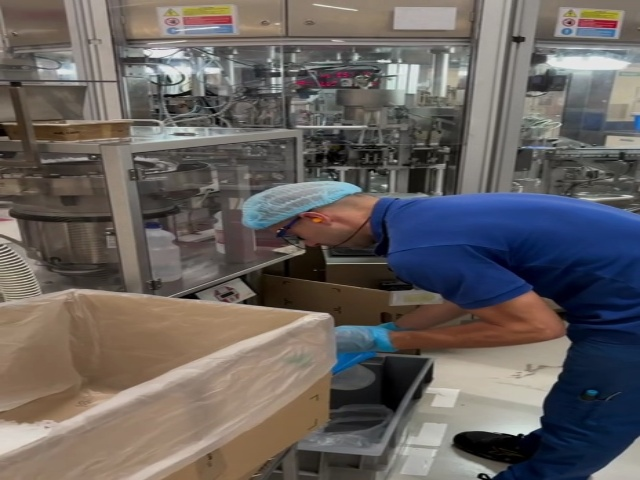Earplug: (301, 212, 335, 223)
Hairnet: (241, 178, 352, 231)
No_Helmet: (241, 177, 360, 230)
No_Vest: (380, 197, 640, 307)
Person: (244, 181, 640, 480)
Safety_Goggles: (272, 205, 315, 241)
